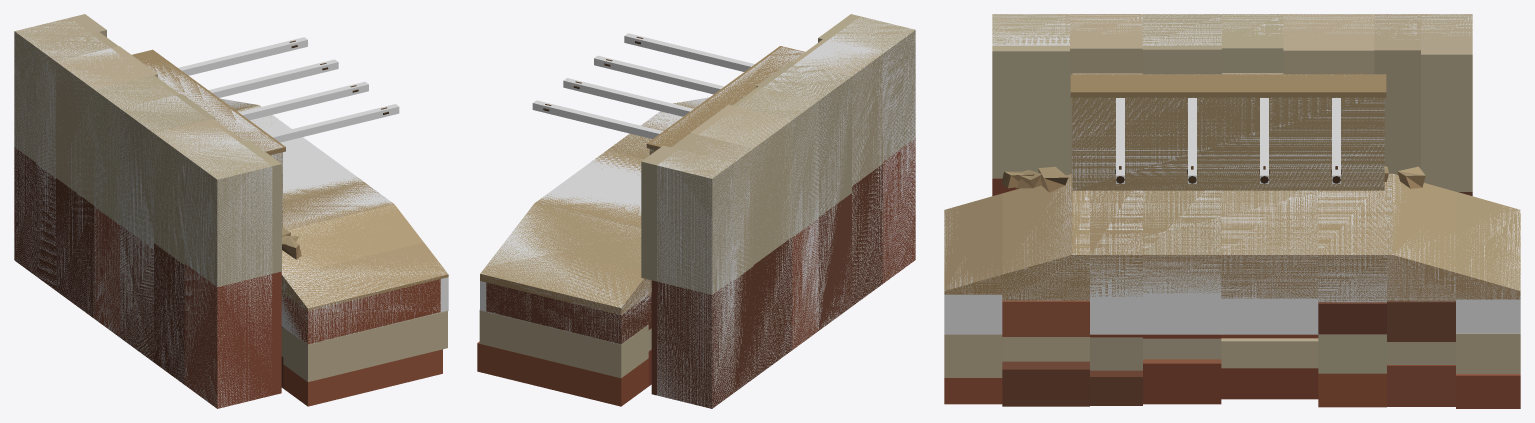
File: viga_pivot.glb
3 views of the same model, side by side, from view 1: azimuth 30°, elevation 25°; view 2: azimuth 150°, elevation 25°; view 3: azimuth 270°, elevation 25° (orthographic). The views are drawn at different scales.
Visible parts, largest first — view 1: viga_pivot, viga_pivot-col; view 2: viga_pivot, viga_pivot-col; view 3: viga_pivot, viga_pivot-col.
Part boxes in pixels (x1=…): viga_pivot: x1=14, y1=14, x2=448, y2=408; viga_pivot-col: x1=14, y1=18, x2=448, y2=408; viga_pivot: x1=477, y1=14, x2=915, y2=408; viga_pivot-col: x1=480, y1=17, x2=915, y2=407; viga_pivot: x1=944, y1=14, x2=1520, y2=408; viga_pivot-col: x1=944, y1=14, x2=1520, y2=334.
Bounding box in the file's own units: 20.02 × 18.7 × 36.
